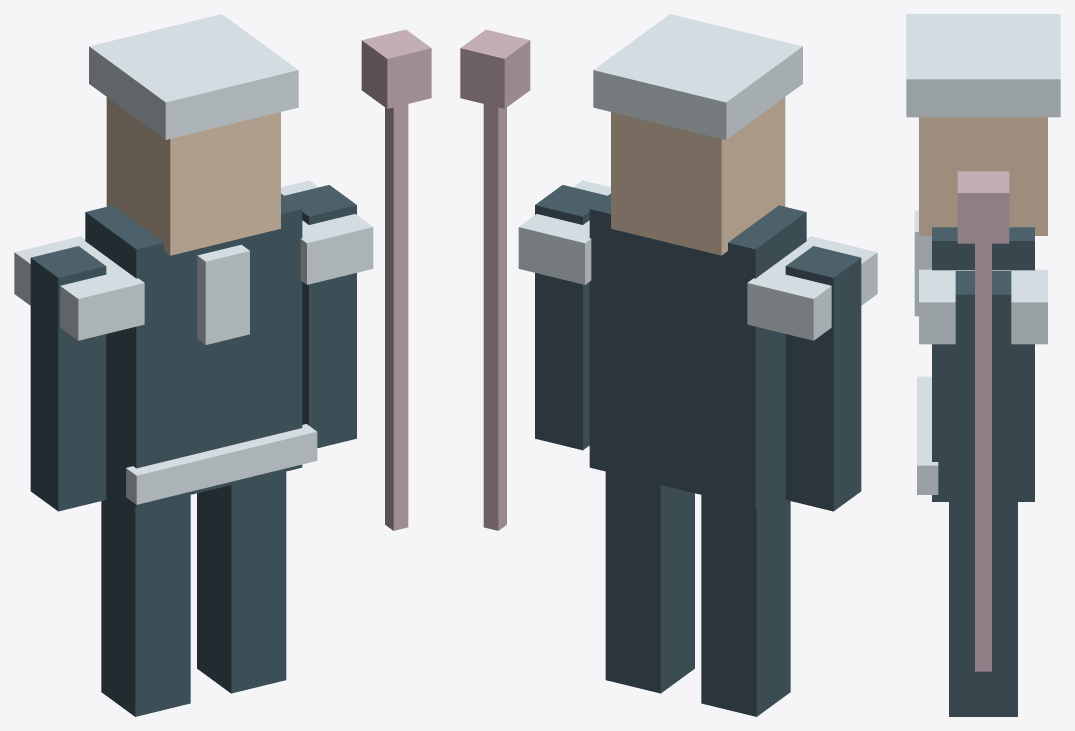
The model's file is 04_ren_brightlock_guide_near_signal.glb.
3 views of the same model, side by side, from view 1: azimuth 30°, elevation 25°; view 2: azimuth 150°, elevation 25°; view 3: azimuth 270°, elevation 25° (orthographic).
Parts seen in each view (by area): view 1: Ren Brightlock, Guide near Signal; view 2: Ren Brightlock, Guide near Signal; view 3: Ren Brightlock, Guide near Signal.
Part boxes in pixels (left/top/right/bottom): Ren Brightlock, Guide near Signal: left=14, top=14, right=431, bottom=716; Ren Brightlock, Guide near Signal: left=460, top=14, right=877, bottom=716; Ren Brightlock, Guide near Signal: left=906, top=14, right=1060, bottom=716.
Bounding box in the file's own units: 0.9626 × 1.54 × 0.3414.
